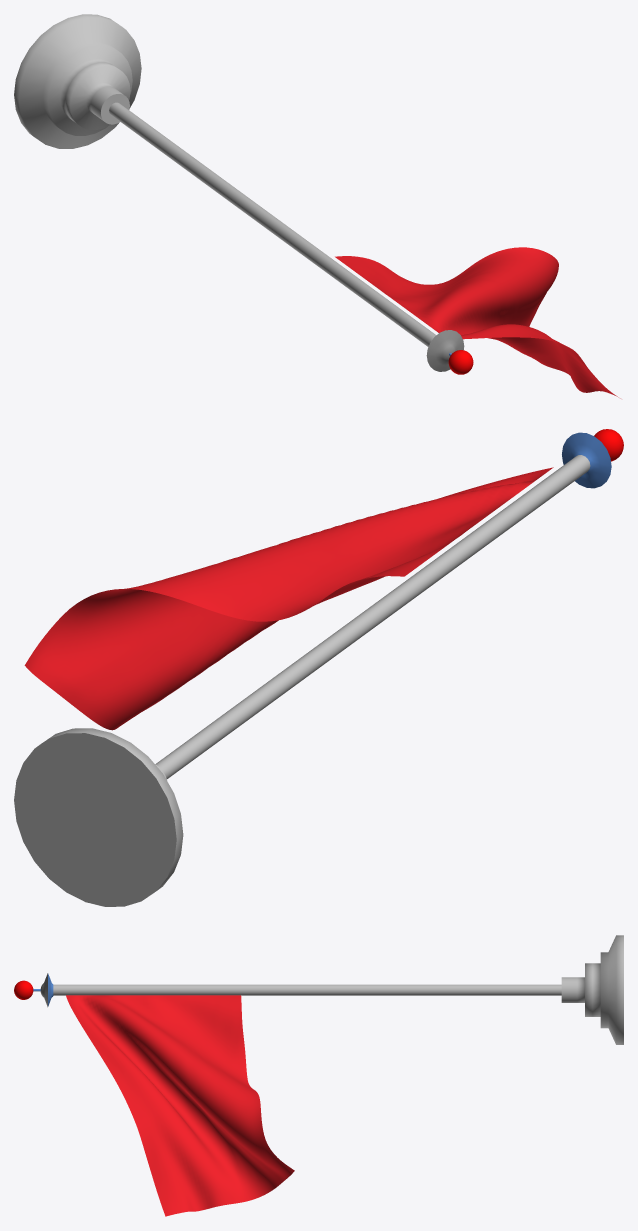
File: RedFlagModel.DAE
3 renders of one model, top to bottom at view 1: azimuth 30°, elevation 25°; view 2: azimuth 150°, elevation 25°; view 3: azimuth 270°, elevation 25°, orthographic. The views are drawn at different scales.
Visible parts, largest first — view 1: Plane001, Cylinder001, Cylinder002, GeoSphere001; view 2: Plane001, Cylinder001, Cylinder002, GeoSphere002; view 3: Plane001, Cylinder002, Cylinder001.
Part boxes in pixels (left/top/right/bottom): Plane001: left=335, top=247, right=620, bottom=398; Cylinder001: left=14, top=14, right=141, bottom=148; Cylinder002: left=109, top=102, right=436, bottom=346; GeoSphere001: left=426, top=330, right=464, bottom=371; Plane001: left=24, top=467, right=553, bottom=730; Cylinder001: left=14, top=728, right=183, bottom=906; Cylinder002: left=155, top=455, right=590, bottom=778; GeoSphere002: left=562, top=432, right=611, bottom=488; Plane001: left=66, top=995, right=294, bottom=1216; Cylinder002: left=53, top=984, right=561, bottom=995; Cylinder001: left=561, top=935, right=623, bottom=1044.
Bounding box in the file's own units: 75.21 × 51.43 × 157.
6 materials, 3 textured.
